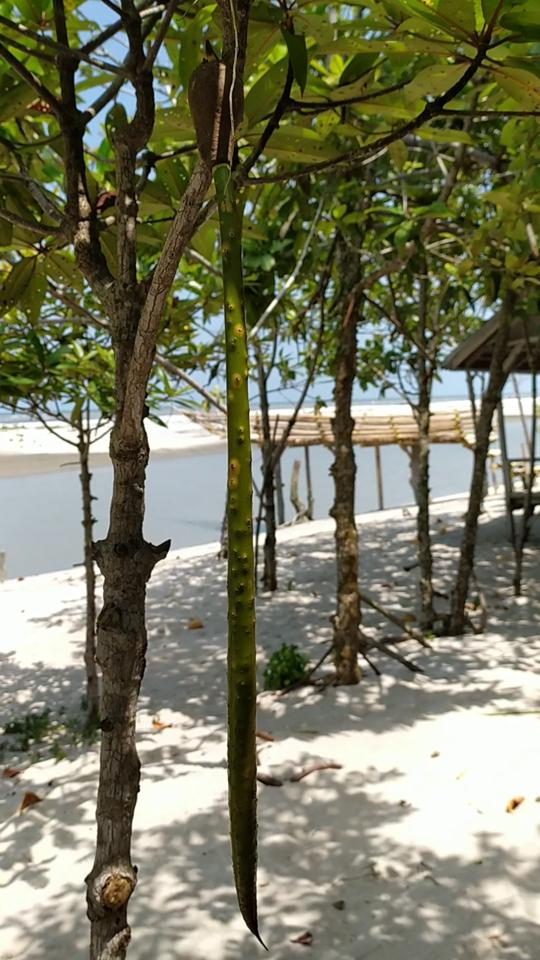setengah matang: (171, 49, 282, 945)
